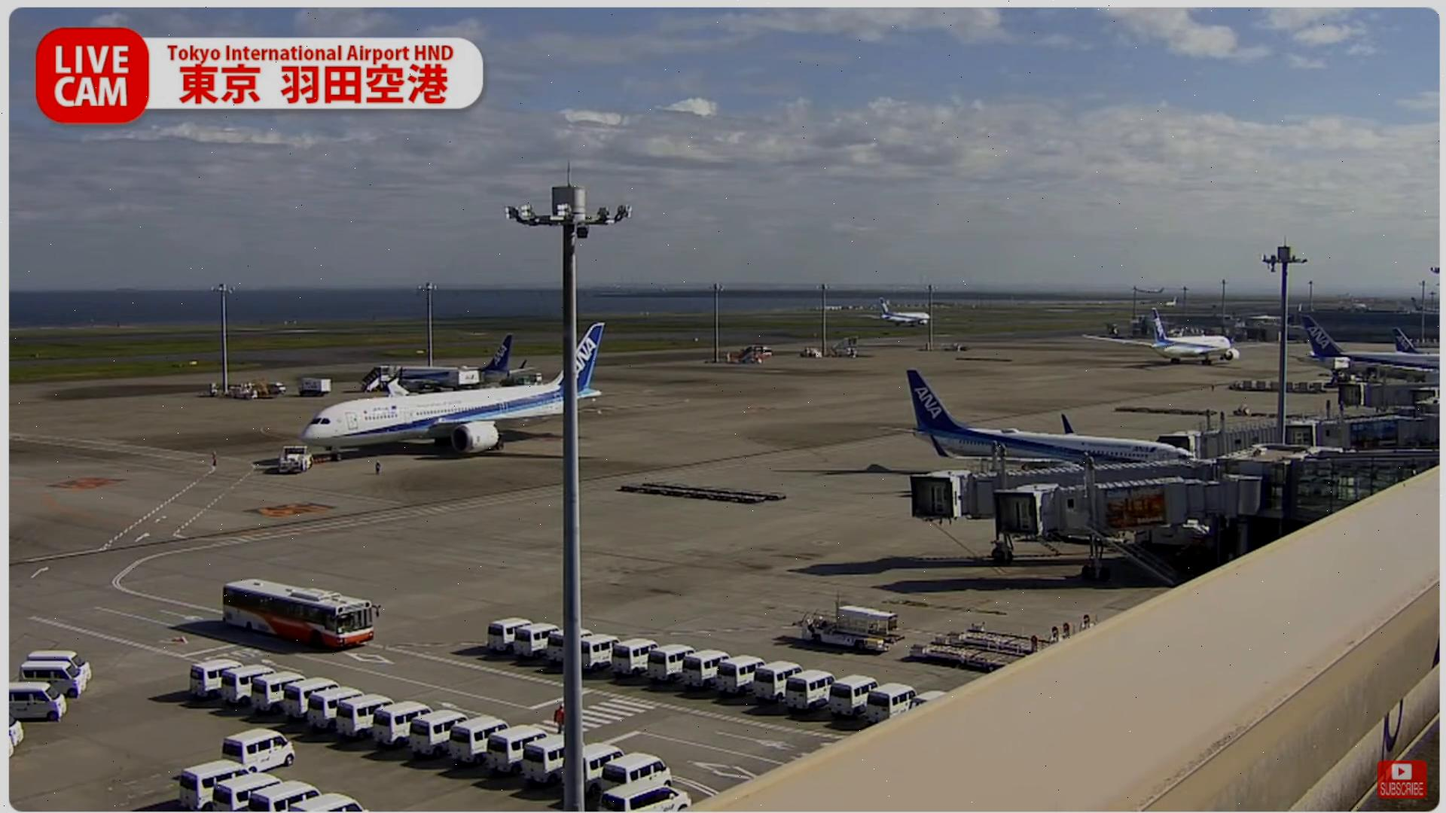APS: (280, 446, 312, 473)
Aerobridge: (911, 439, 1226, 564), (997, 451, 1259, 586)
Airplane: (304, 323, 605, 452)
Dolly: (639, 483, 786, 500), (620, 486, 766, 503)
JCPL: (912, 627, 1059, 672), (947, 614, 1090, 655)
Skyloader: (798, 604, 904, 652)
Window: (1290, 458, 1438, 523)
